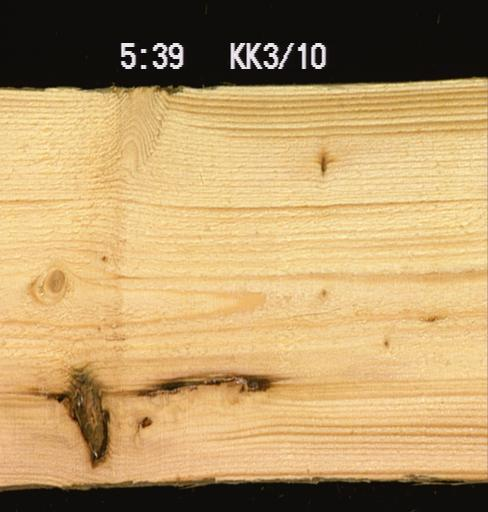small_knot: (316, 152, 327, 179), (380, 337, 391, 349), (319, 288, 328, 296)
sound_knot: (44, 266, 65, 293)
wave: (0, 83, 218, 95)
